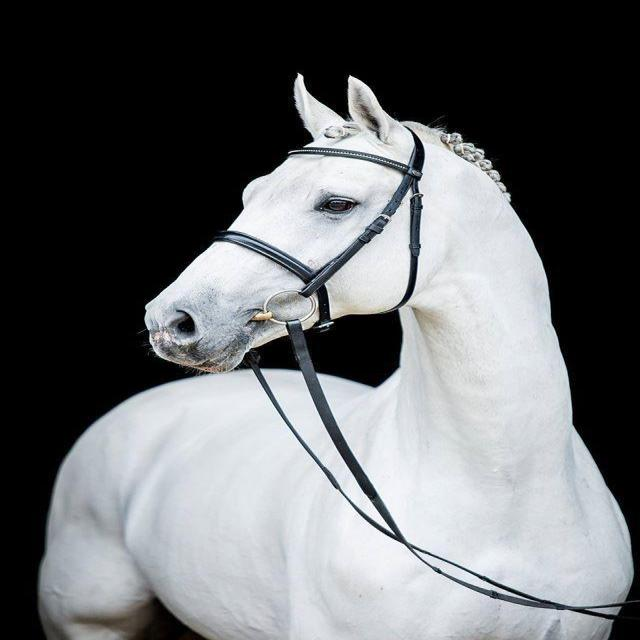horse: (36, 71, 634, 639)
